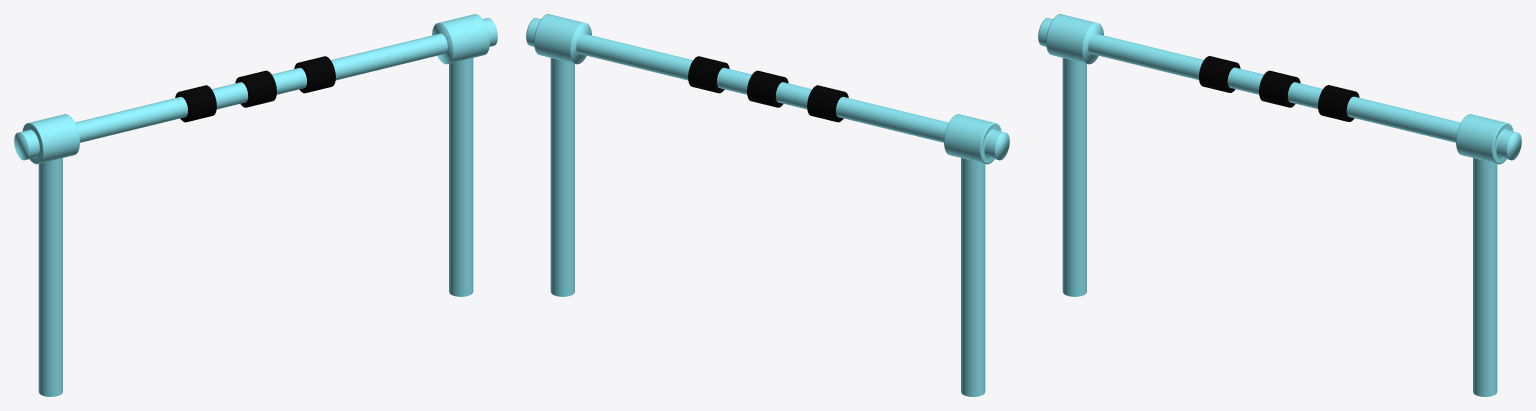
The model's file is Pendulum_poste.fbx.
3 views of the same model, side by side, from view 1: azimuth 30°, elevation 25°; view 2: azimuth 150°, elevation 25°; view 3: azimuth 330°, elevation 25° (orthographic).
Parts seen in each view (by area): view 1: Cube.001, Cylinder.002, Cylinder.003, Cylinder.004; view 2: Cube.001, Cylinder.002, Cylinder.003, Cylinder.004; view 3: Cube.001, Cylinder.002, Cylinder.004, Cylinder.003.
Boxes of the visible parts, bbox=[...] form: Cube.001: bbox=[14, 14, 497, 396]; Cylinder.002: bbox=[235, 70, 276, 107]; Cylinder.003: bbox=[175, 85, 216, 122]; Cylinder.004: bbox=[294, 56, 335, 93]; Cube.001: bbox=[526, 14, 1009, 396]; Cylinder.002: bbox=[747, 70, 788, 107]; Cylinder.003: bbox=[807, 85, 848, 122]; Cylinder.004: bbox=[688, 56, 729, 93]; Cube.001: bbox=[1038, 14, 1521, 396]; Cylinder.002: bbox=[1259, 70, 1300, 107]; Cylinder.004: bbox=[1318, 85, 1359, 121]; Cylinder.003: bbox=[1199, 56, 1240, 92].
Bounding box in the file's own units: 2511 × 1390 × 196.
